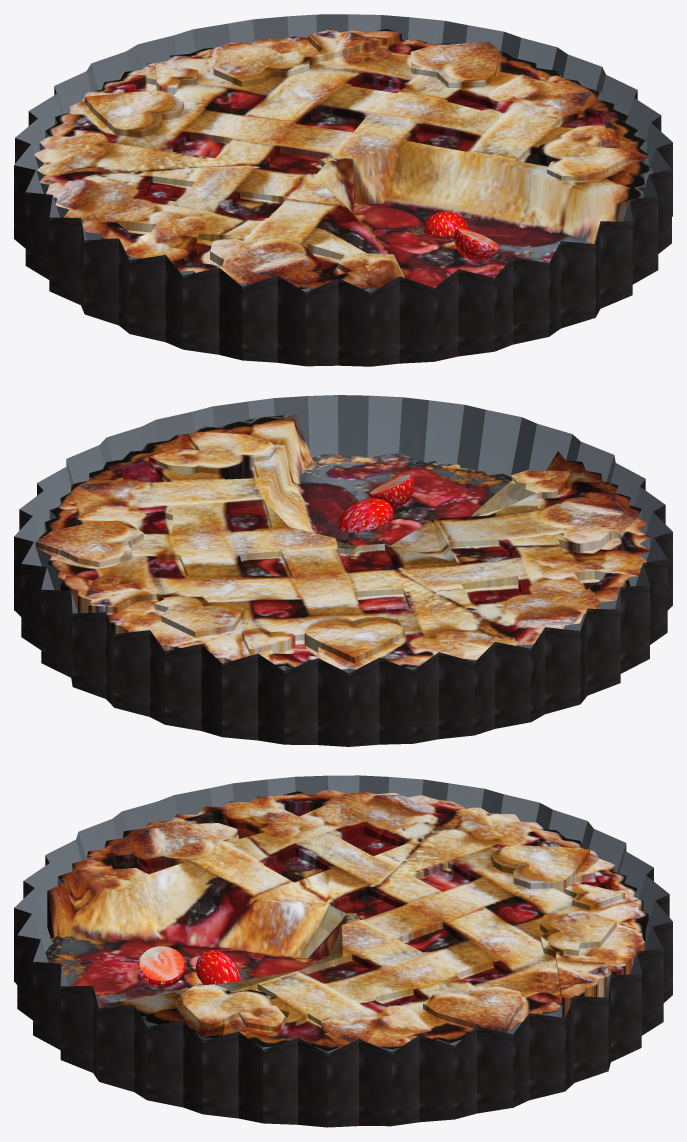
Rendered from pie.gltf.
3 renders of one model, top to bottom at view 1: azimuth 30°, elevation 25°; view 2: azimuth 150°, elevation 25°; view 3: azimuth 270°, elevation 25°, orthographic.
Visible parts, largest first — view 1: Screenshot 2021-05-16 160319, Cylinder, Circle, Circle.001; view 2: Screenshot 2021-05-16 160319, Cylinder, Circle.001, Circle; view 3: Screenshot 2021-05-16 160319, Cylinder, Circle, Circle.001.
Boxes of the visible parts, box(x1,y1,x2,y2) form: Screenshot 2021-05-16 160319: box(34, 28, 652, 292); Cylinder: box(14, 14, 672, 366); Circle: box(454, 228, 499, 261); Circle.001: box(423, 211, 470, 238); Screenshot 2021-05-16 160319: box(35, 414, 649, 673); Cylinder: box(14, 395, 672, 746); Circle.001: box(336, 498, 393, 532); Circle: box(369, 474, 414, 507); Screenshot 2021-05-16 160319: box(45, 790, 648, 1053); Cylinder: box(14, 775, 672, 1127); Circle: box(137, 946, 185, 987); Circle.001: box(195, 949, 241, 985).
Bounding box in the file's own units: 1.04 × 0.1518 × 1.04.
Materials: 3 (3 with a texture image).
